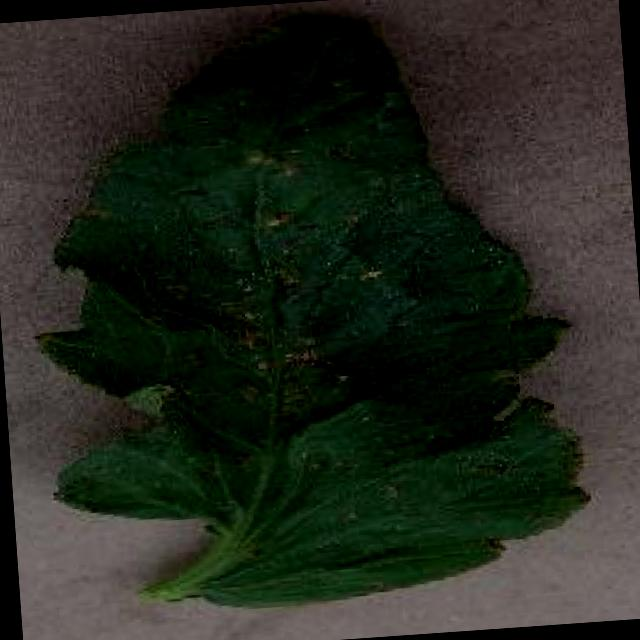bacterial spot: (39, 8, 597, 608)
